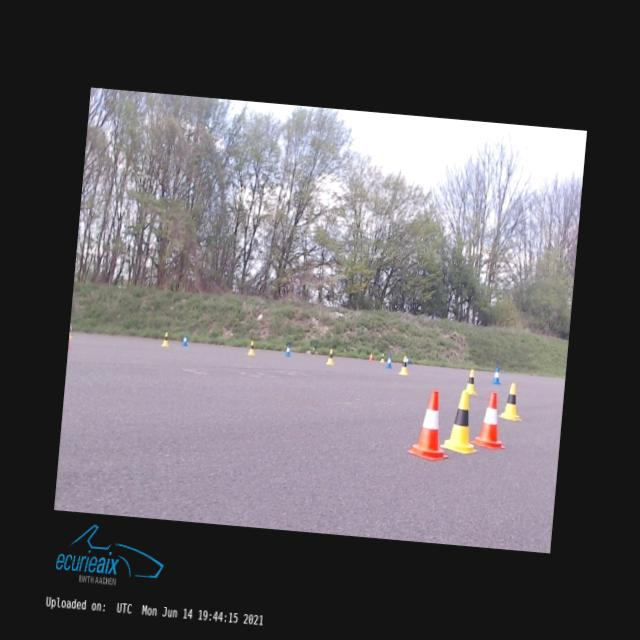blue_cone: (492, 366, 501, 384), (385, 354, 392, 367), (182, 334, 188, 346), (285, 344, 291, 356), (406, 356, 410, 364)
orange_cone: (406, 388, 454, 462), (470, 390, 510, 449), (368, 352, 372, 360)
yellow_cone: (439, 388, 482, 454), (498, 382, 524, 421), (466, 368, 478, 394), (398, 356, 410, 375), (326, 348, 334, 364), (162, 331, 170, 346), (248, 340, 255, 354), (68, 322, 72, 338), (380, 353, 384, 362)
